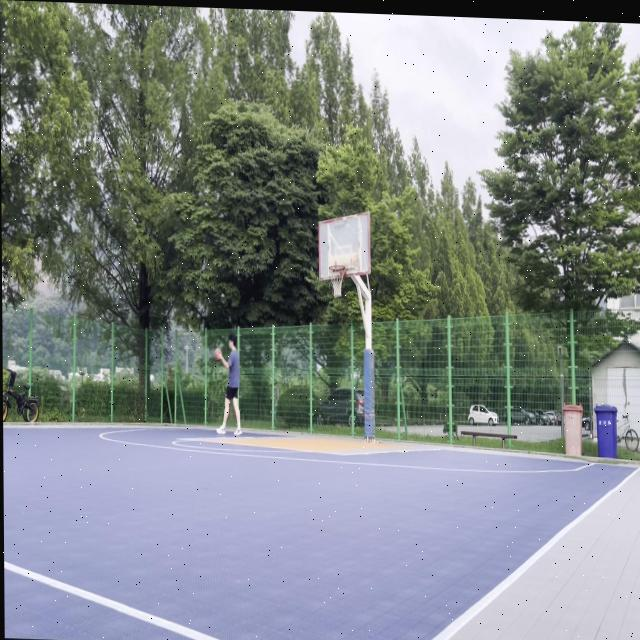basketball: (213, 347, 222, 363)
hoop: (329, 264, 345, 300)
